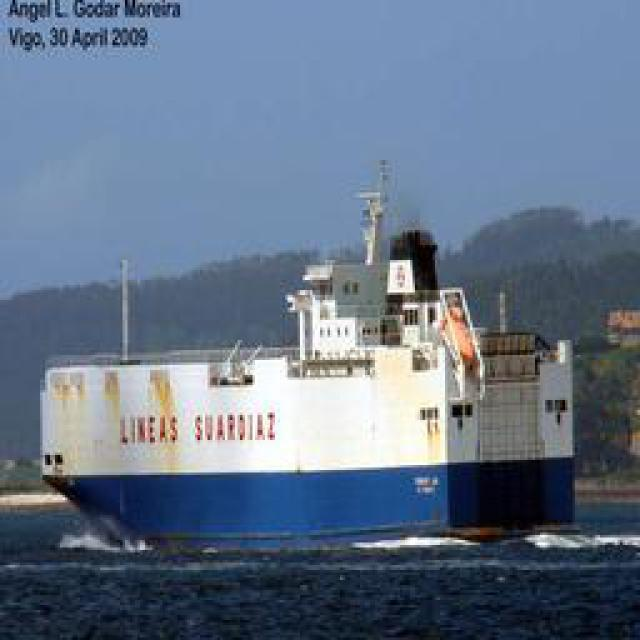Ship: (41, 192, 551, 552)
